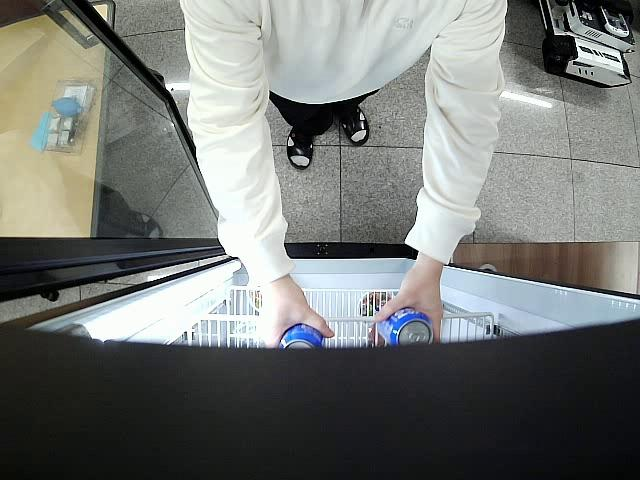00_hand: (373, 273, 444, 346), (257, 291, 336, 352)
13_pocariSweat: (373, 304, 436, 346), (278, 322, 326, 353)
